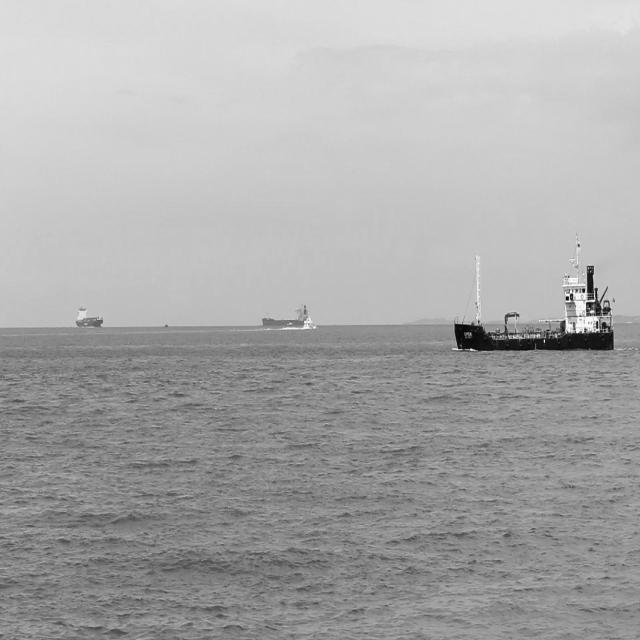ship: (450, 230, 617, 354), (259, 298, 310, 332), (74, 301, 105, 329), (302, 312, 316, 332)
